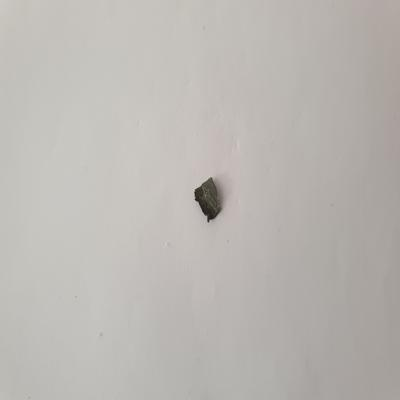plastic: (188, 171, 227, 225)
